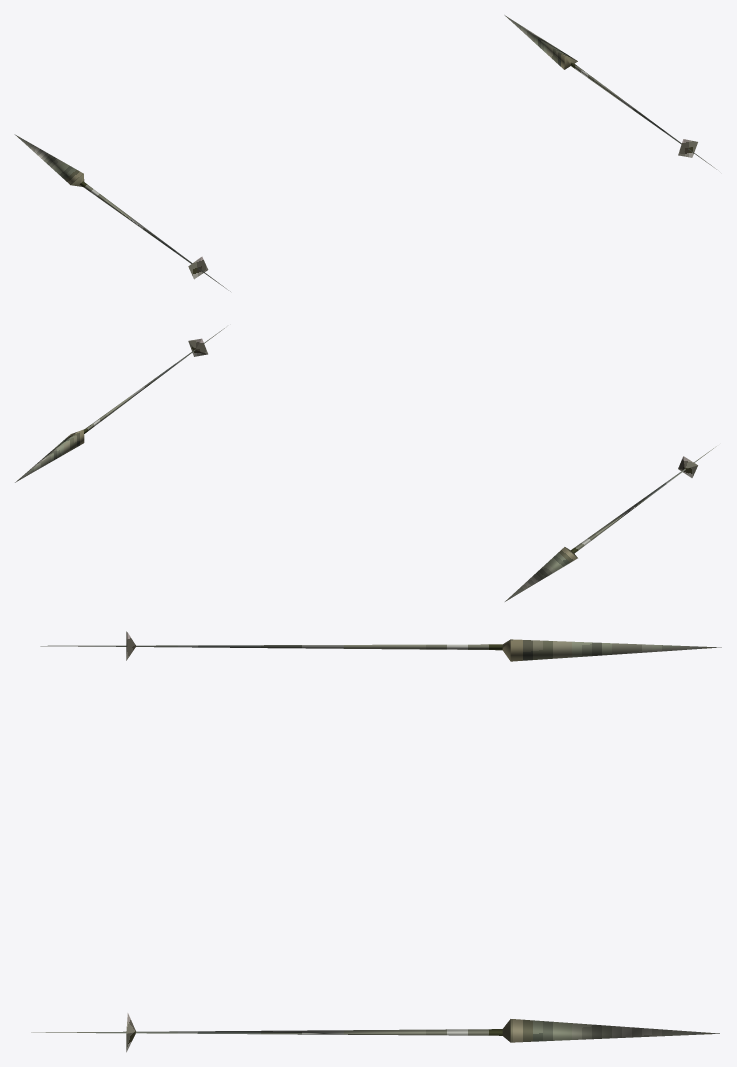
The model's file is z95_weapon_s01_l3.fbx.
3 views of the same model, one above another, from view 1: azimuth 30°, elevation 25°; view 2: azimuth 150°, elevation 25°; view 3: azimuth 270°, elevation 25° (orthographic). The views are drawn at different scales.
Parts seen in each view (by area): view 1: mesh_node; view 2: mesh_node; view 3: mesh_node.
Part boxes in pixels (<box>): mesh_node: <box>14,15,716,291</box>; mesh_node: <box>15,328,716,601</box>; mesh_node: <box>31,631,721,1052</box>.
Bounding box in the file's own units: 15.24 × 0.594 × 11.35.
1 material, 1 textured.
